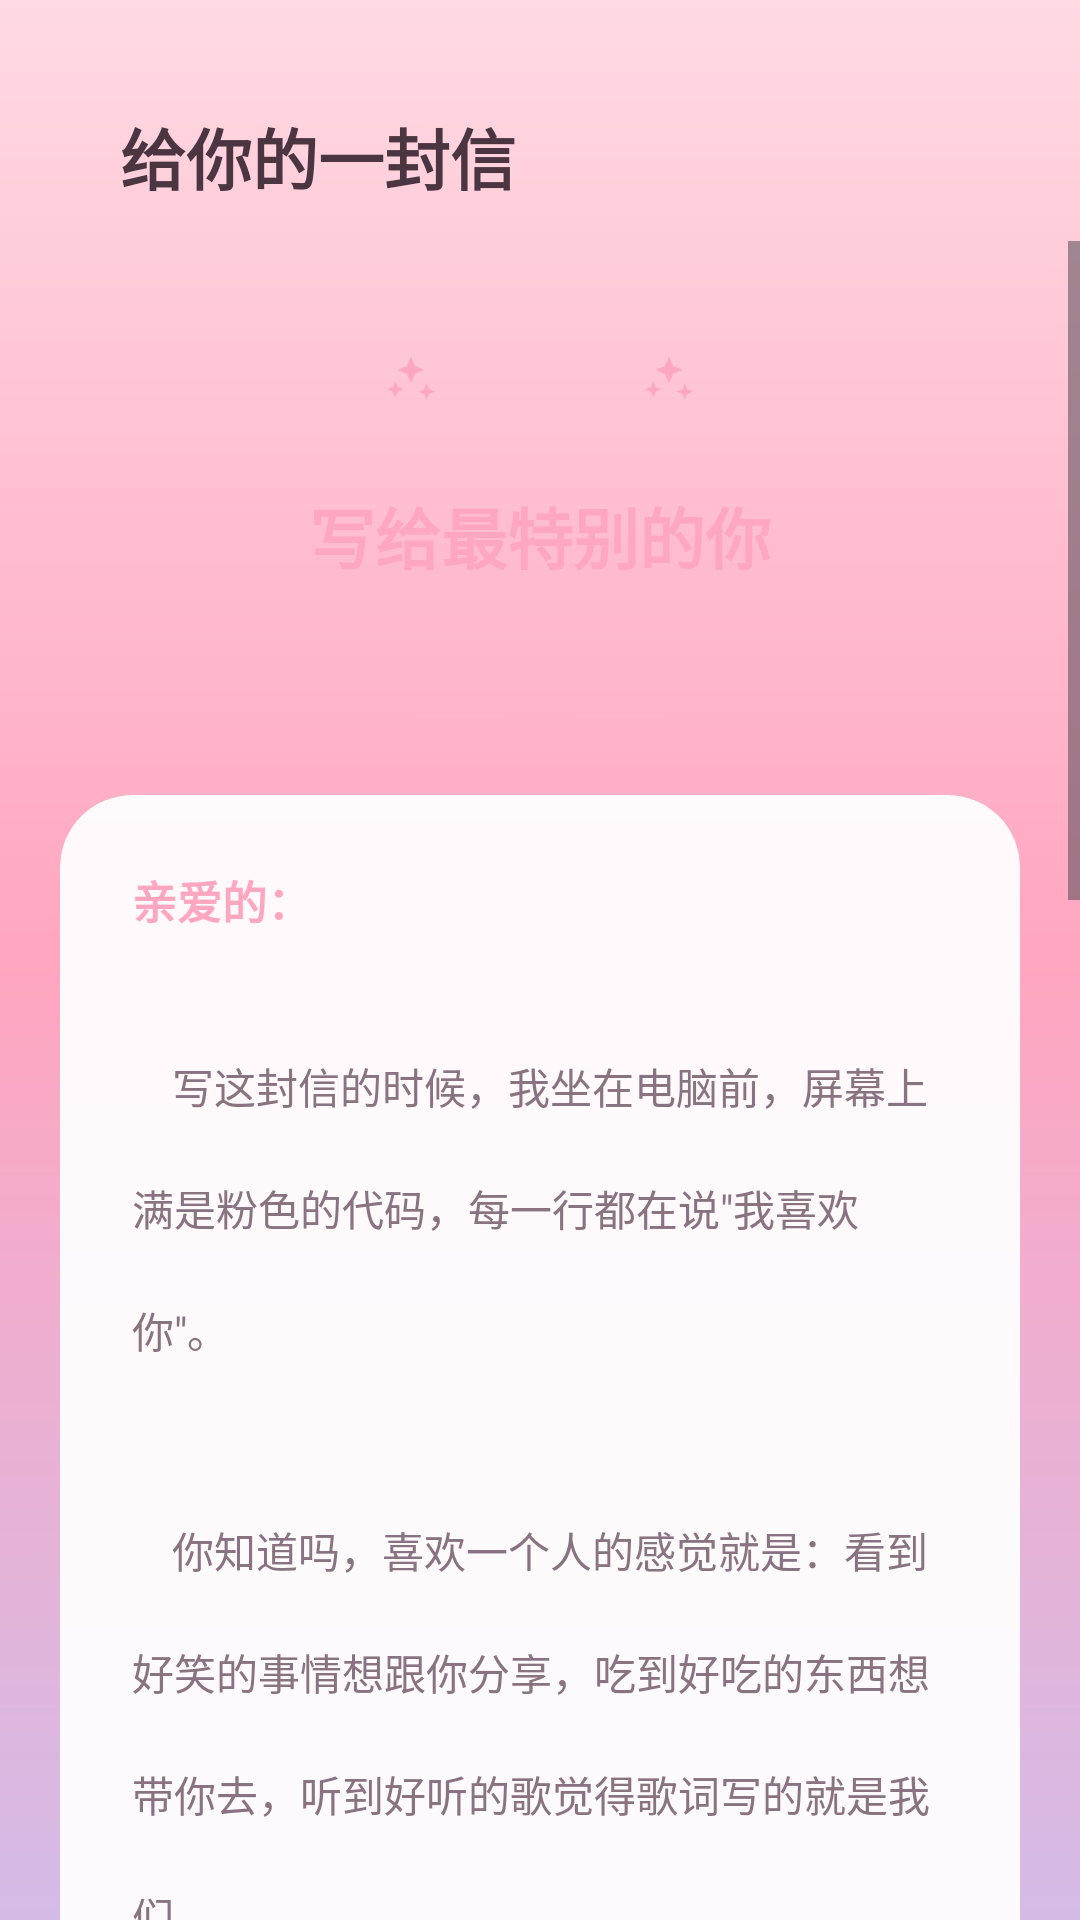

Locate icon controls on the screen. Image size 1080px×1920px, boxes as {"left": x1, "top": y1, "right": x2, "bottom": y2}.
love shine: {"left": 388, "top": 358, "right": 434, "bottom": 398}, {"left": 646, "top": 358, "right": 692, "bottom": 398}
